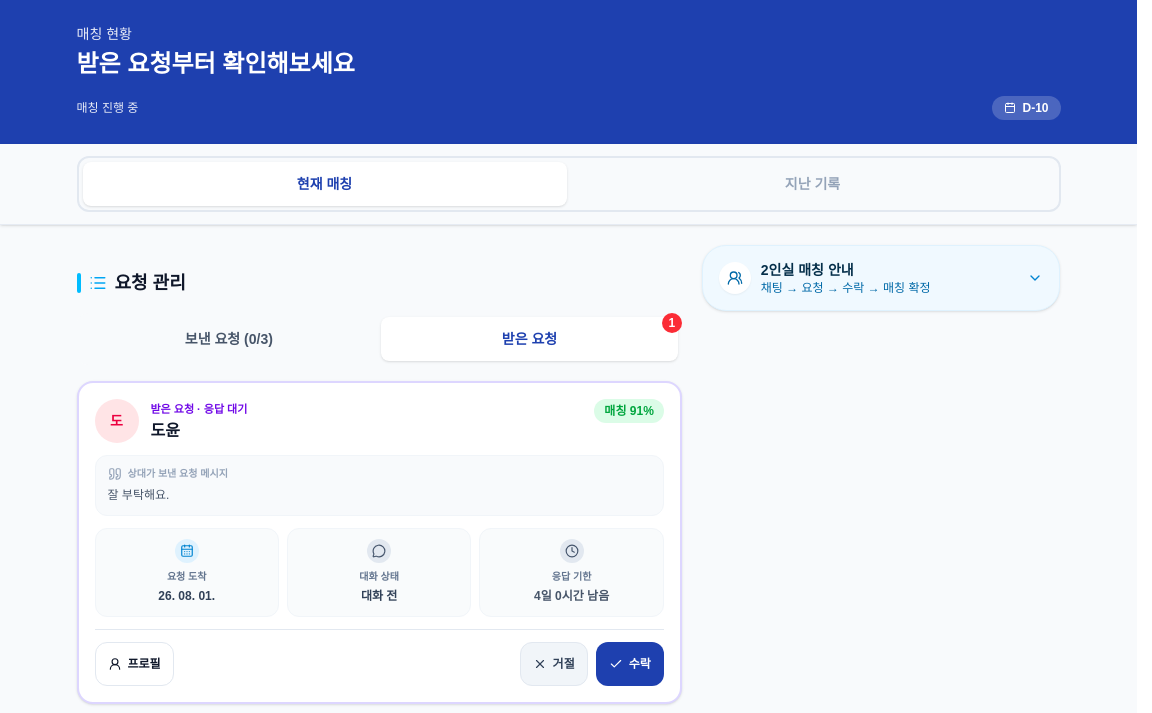
Scenario: MatchingTab canonical runtime › stale 수락은 raw message 없이 refetch한 system-cancelled row와 public feedback으로 수렴한다
The width and height of the screenshot is (1152, 713).
What coordinates should you click on to do the following:
click the button "수락"
I would click on:
 (630, 664)
Its box is [596,642,664,686].
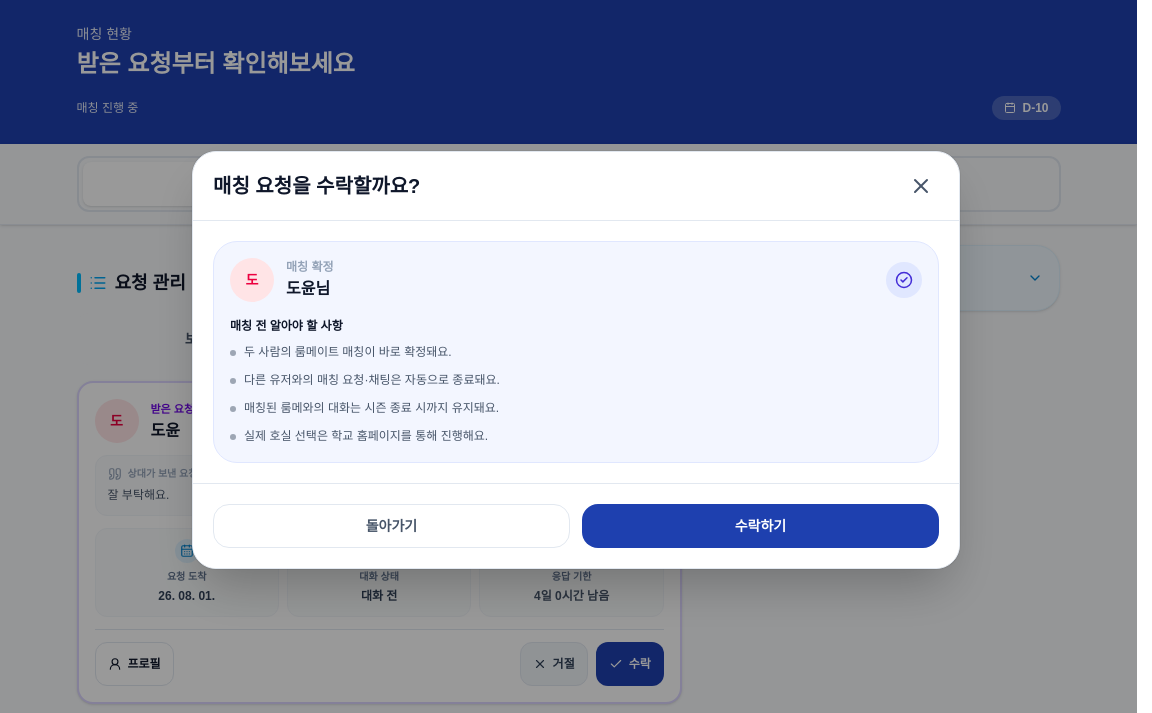
What coordinates should you click on to do the following:
click the button "수락하기"
I would click on:
 (760, 526)
Its box is [582,504,939,548].
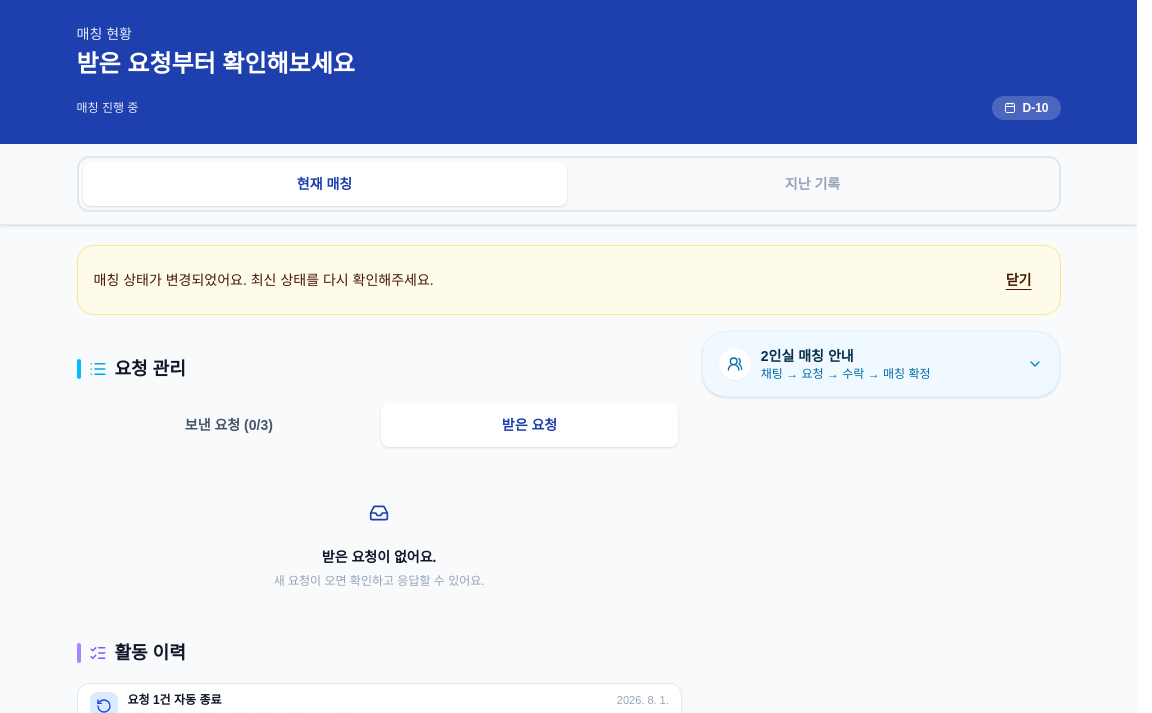
Expected: the message shows "매칭 상태가 변경되었어요. 최신 상태를 다시 확인해주세요.", [94,272,434,288]
Expected: the text "요청 1건 자동 종료" is shown, [128,693,222,707]
